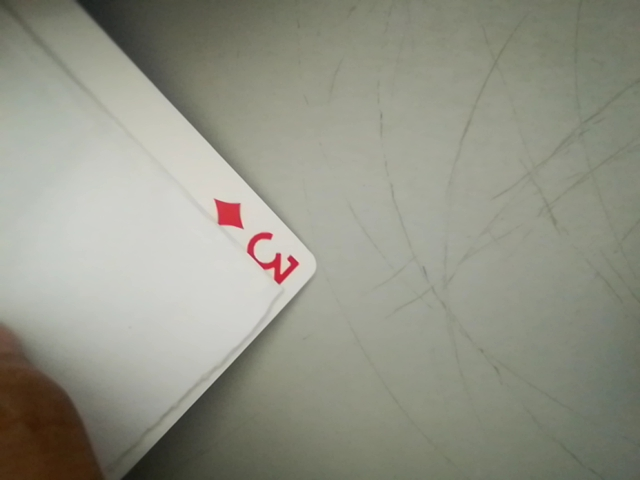fk 3: (207, 193, 314, 292)
